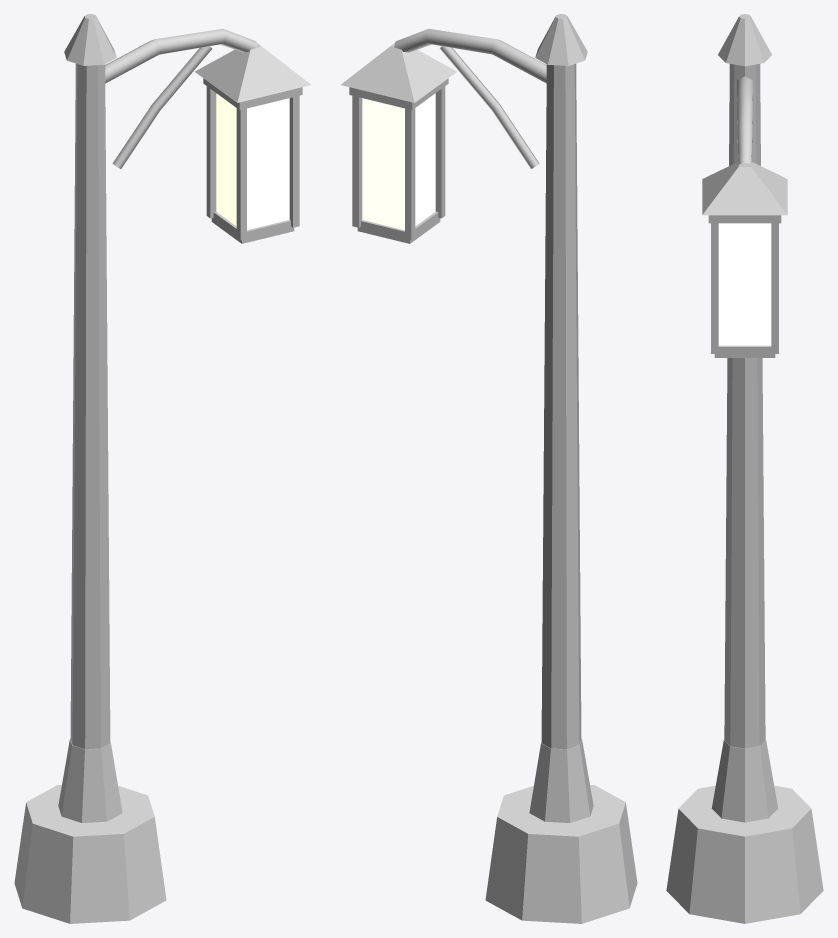
The model's file is lamp_post.glb.
The picture shows the model from 3 angles, left to right: view 1: azimuth 30°, elevation 25°; view 2: azimuth 150°, elevation 25°; view 3: azimuth 270°, elevation 25°; orthographic projection.
Visible parts, largest first — view 1: lamp_post, lamp_glass; view 2: lamp_post, lamp_glass; view 3: lamp_post, lamp_glass.
Part boxes in pixels (x1,y1,x2,y2): lamp_post: [14, 14, 310, 923]; lamp_glass: [216, 93, 289, 230]; lamp_post: [341, 14, 637, 923]; lamp_glass: [362, 93, 435, 230]; lamp_post: [666, 14, 823, 923]; lamp_glass: [718, 223, 771, 345].
Size of the model in its own units: 1.02 by 3.19 by 0.52.
